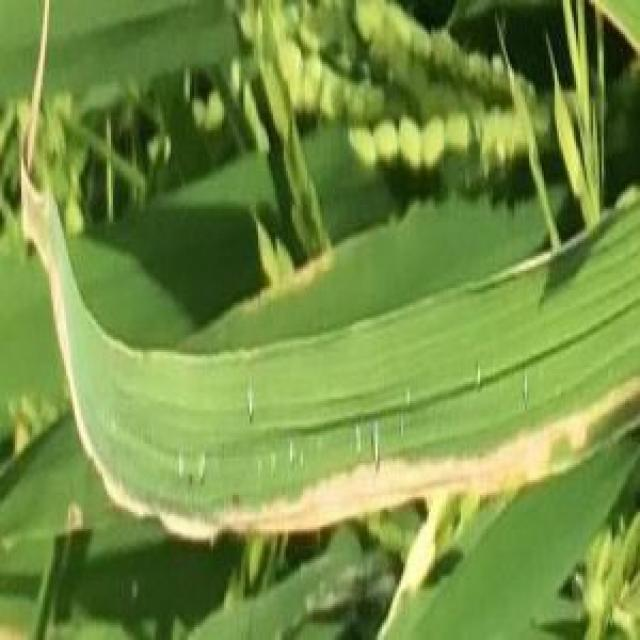leaf blight: (147, 356, 638, 540), (21, 188, 143, 514)
